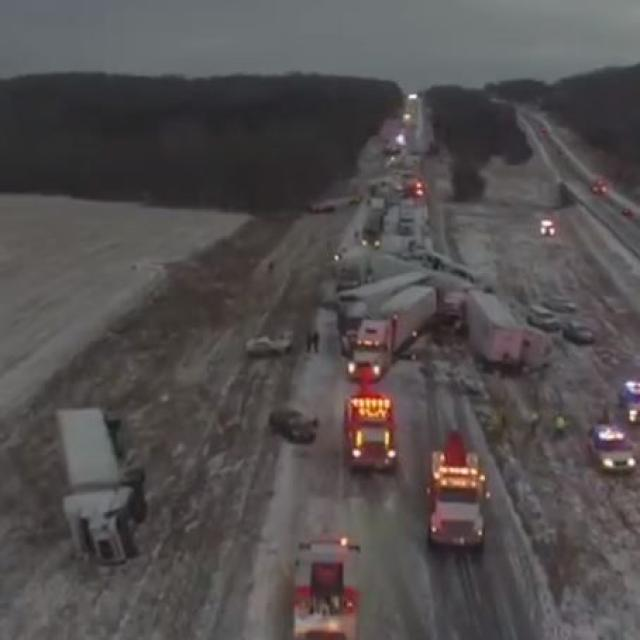traffic_incident: (314, 235, 554, 367), (58, 396, 149, 574)
